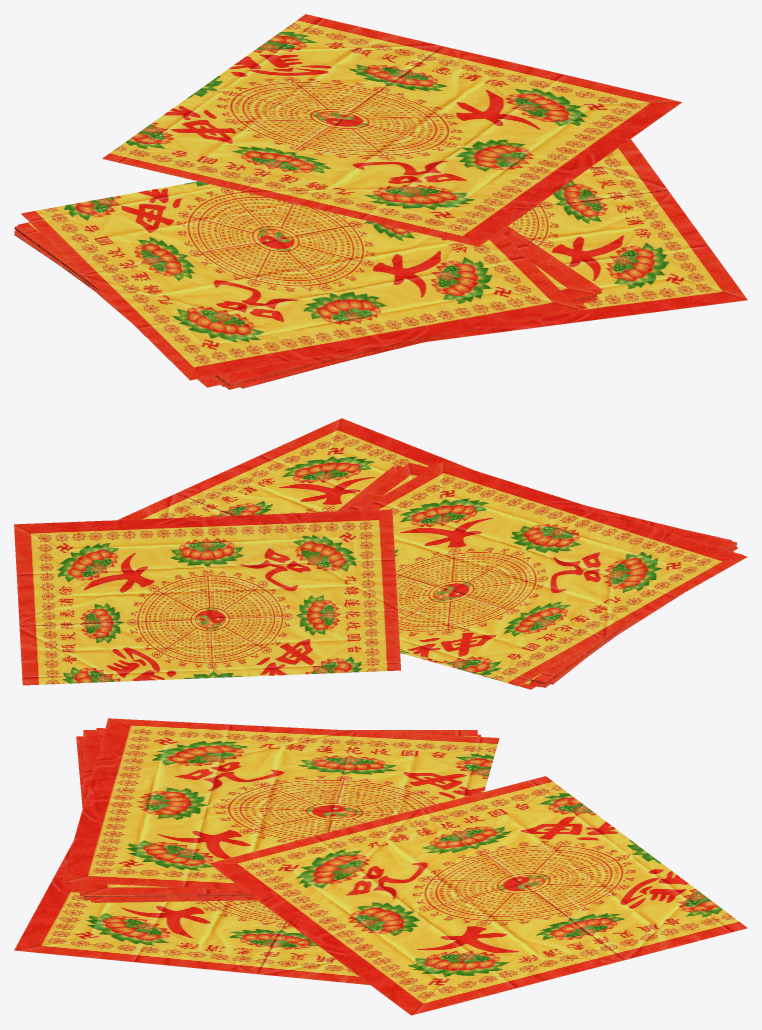
File: lotus_paper.fbx
3 renders of one model, top to bottom at view 1: azimuth 30°, elevation 25°; view 2: azimuth 150°, elevation 25°; view 3: azimuth 270°, elevation 25°, orthographic. The views are drawn at different scales.
Visible parts, largest first — view 1: Plane.015; view 2: Plane.015; view 3: Plane.015.
Boxes of the visible parts, <box> form: Plane.015: <box>14,14,747,389</box>; Plane.015: <box>14,418,747,689</box>; Plane.015: <box>14,718,747,1015</box>.
Bounding box in the file's own units: 37.56 × 0.8906 × 39.57.
1 material, 1 textured.
